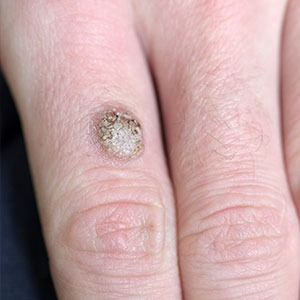Warts: (84, 91, 149, 173)
